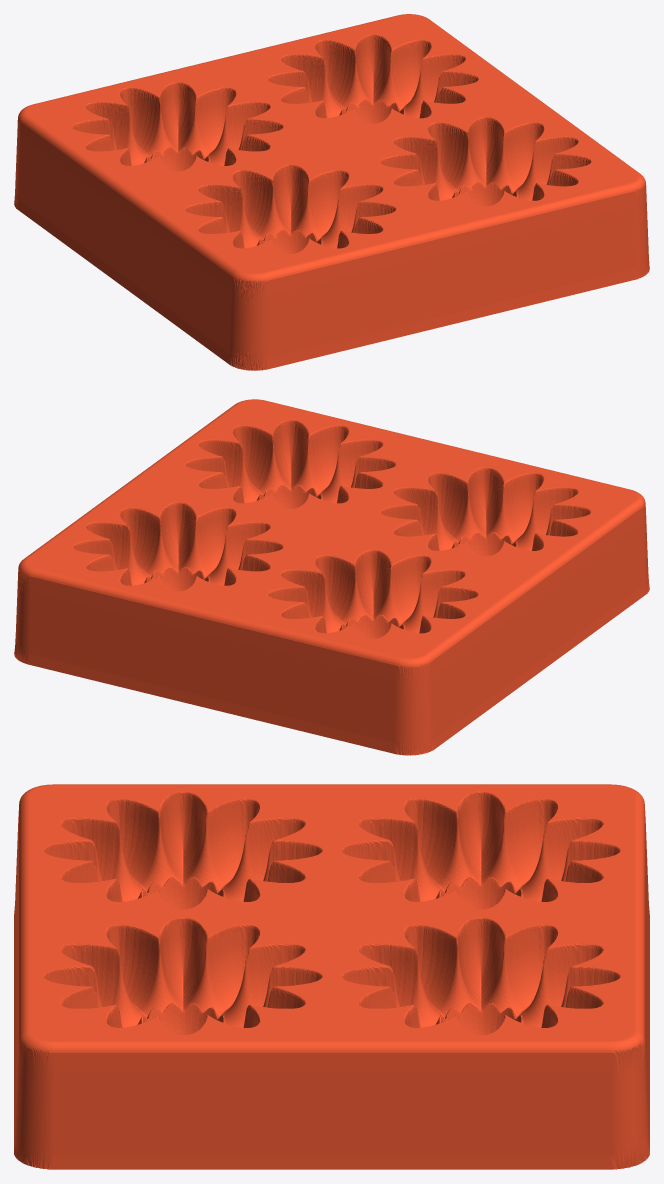
The model's file is mold.glb.
The picture shows the model from 3 angles, top to bottom: view 1: azimuth 30°, elevation 25°; view 2: azimuth 150°, elevation 25°; view 3: azimuth 270°, elevation 25°; orthographic projection. The views are drawn at different scales.
Parts seen in each view (by area): view 1: geometry_0; view 2: geometry_0; view 3: geometry_0.
Part boxes in pixels (x1,y1,x2,y2): geometry_0: (14, 14, 649, 370); geometry_0: (14, 399, 649, 755); geometry_0: (14, 784, 649, 1169).
Size of the model in its own units: 0.1466 by 0.031 by 0.1466.
